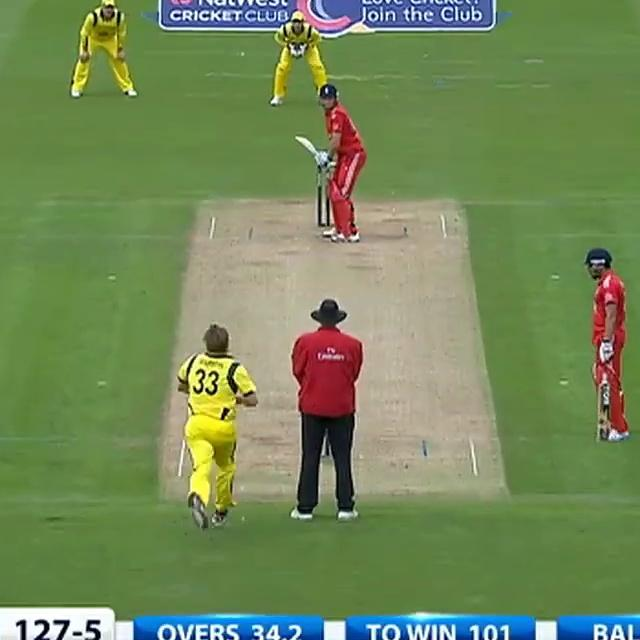umpire: (278, 290, 375, 524)
